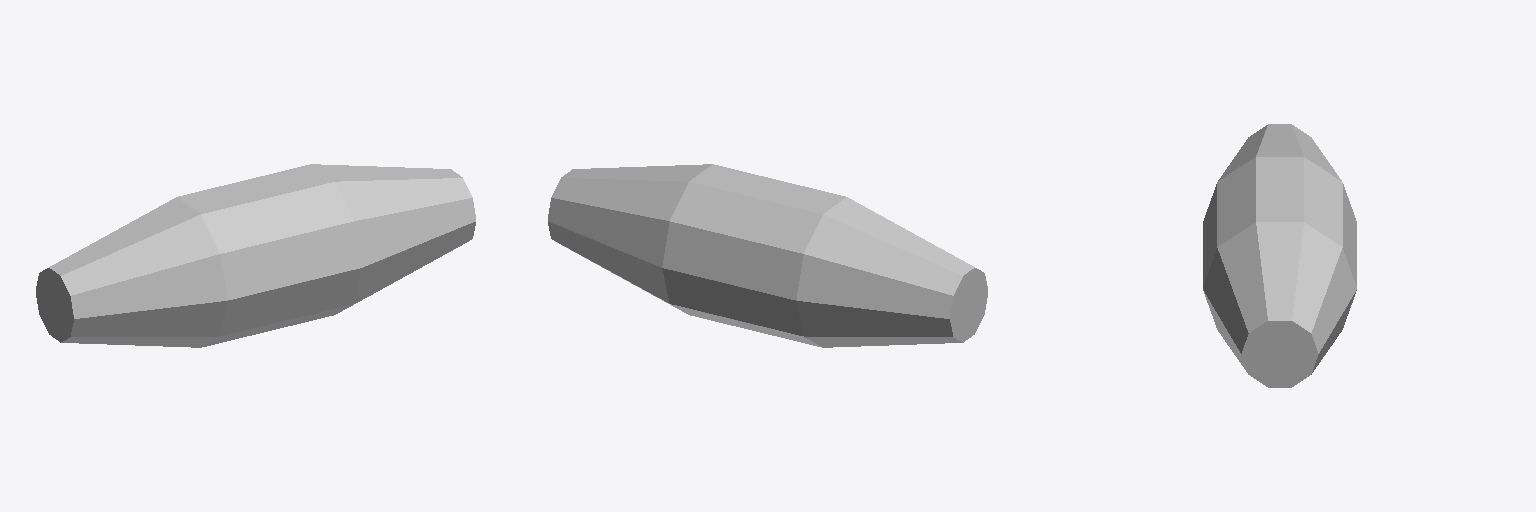
The model's file is starblast-1538717365165.obj.
The picture shows the model from 3 angles: view 1: azimuth 30°, elevation 25°; view 2: azimuth 150°, elevation 25°; view 3: azimuth 270°, elevation 25°; orthographic projection.
Bounding box in the file's own units: 1.2 × 0.3804 × 0.4.